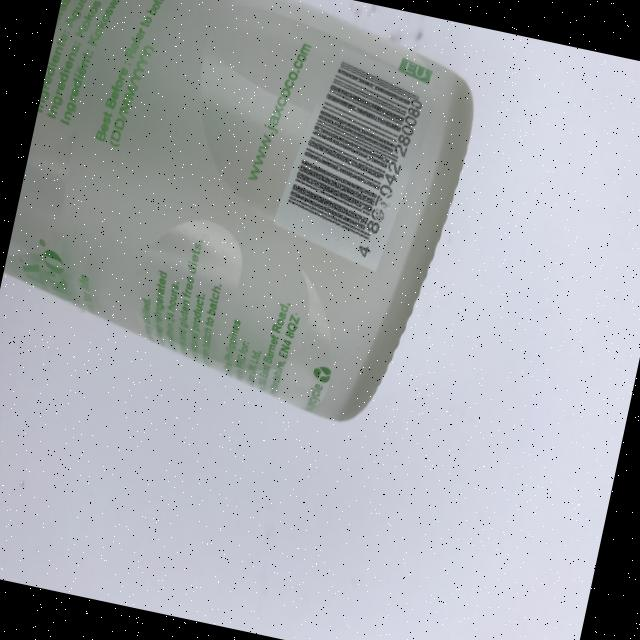glass: (0, 0, 493, 436)
